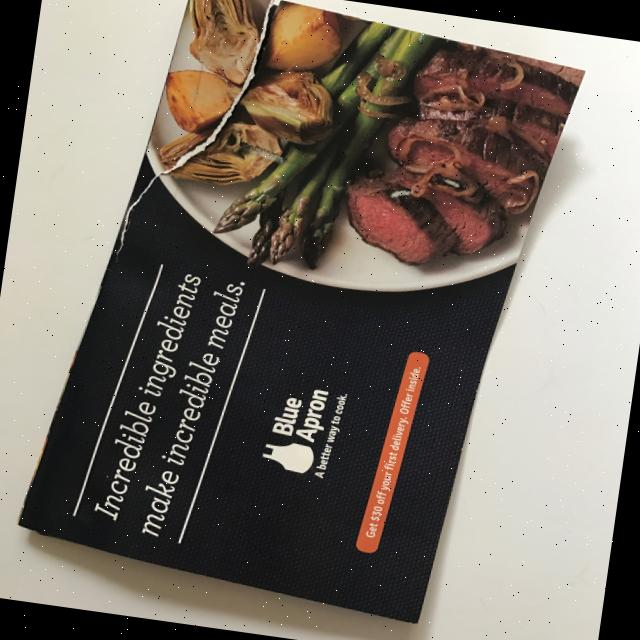paper: (6, 0, 595, 640)
